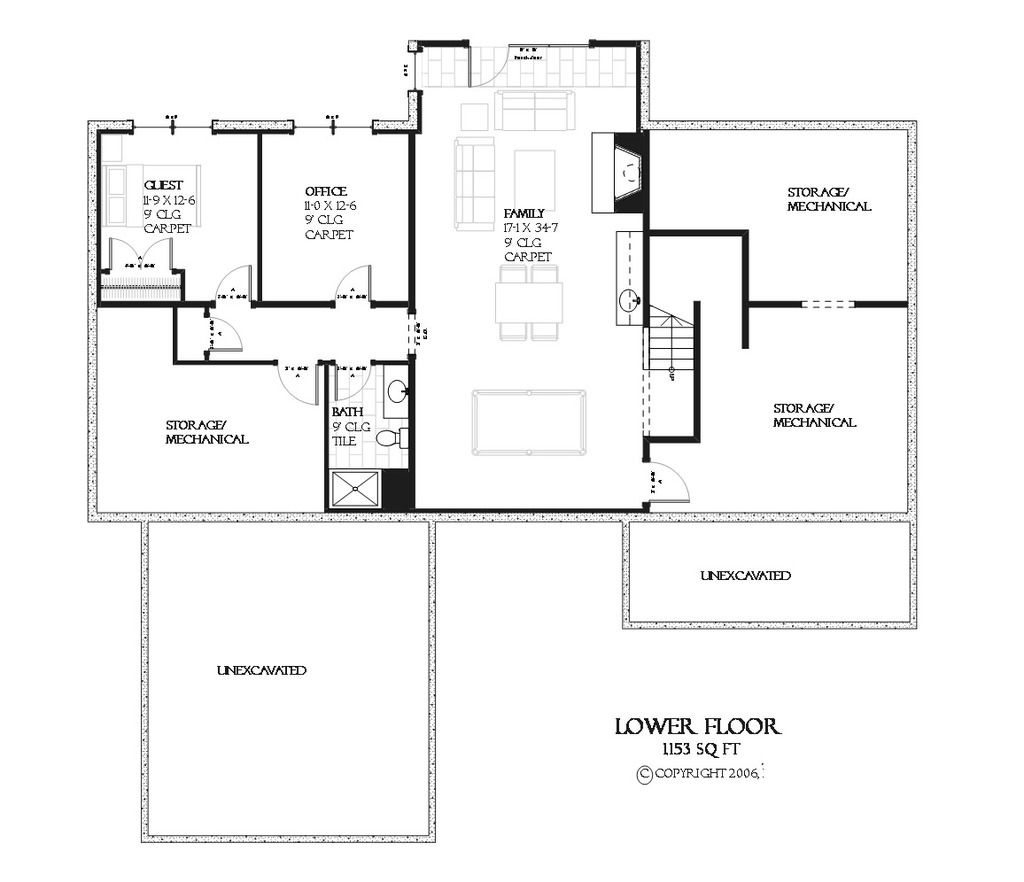dining_table: (484, 235, 564, 344)
door: (102, 233, 187, 277), (317, 258, 380, 309), (267, 357, 319, 409), (641, 465, 693, 506), (461, 40, 505, 87), (204, 316, 253, 358), (328, 357, 369, 407), (206, 263, 250, 302)
large_sink: (378, 432, 413, 455)
large_sofa: (445, 127, 495, 229), (484, 84, 582, 136)
small_sink: (615, 263, 653, 335), (384, 369, 408, 421)
stairs: (647, 295, 693, 442)
window: (120, 116, 219, 136), (291, 117, 380, 135), (793, 294, 863, 316)
